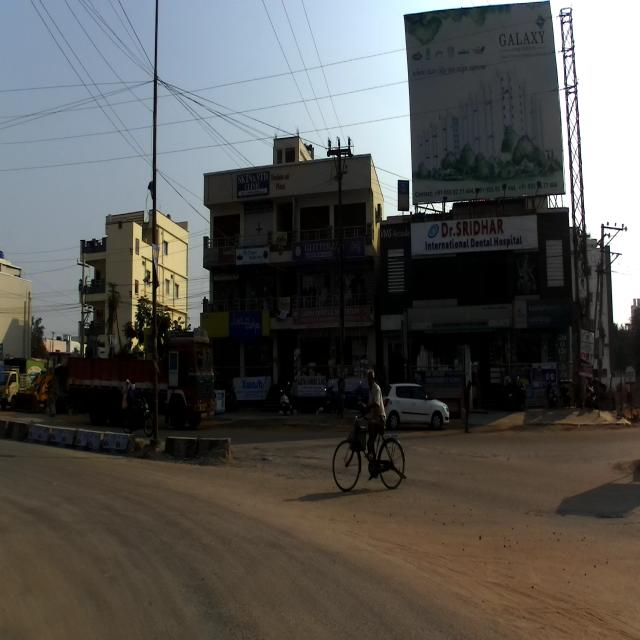bicycle ahead at: (334, 410, 407, 492)
